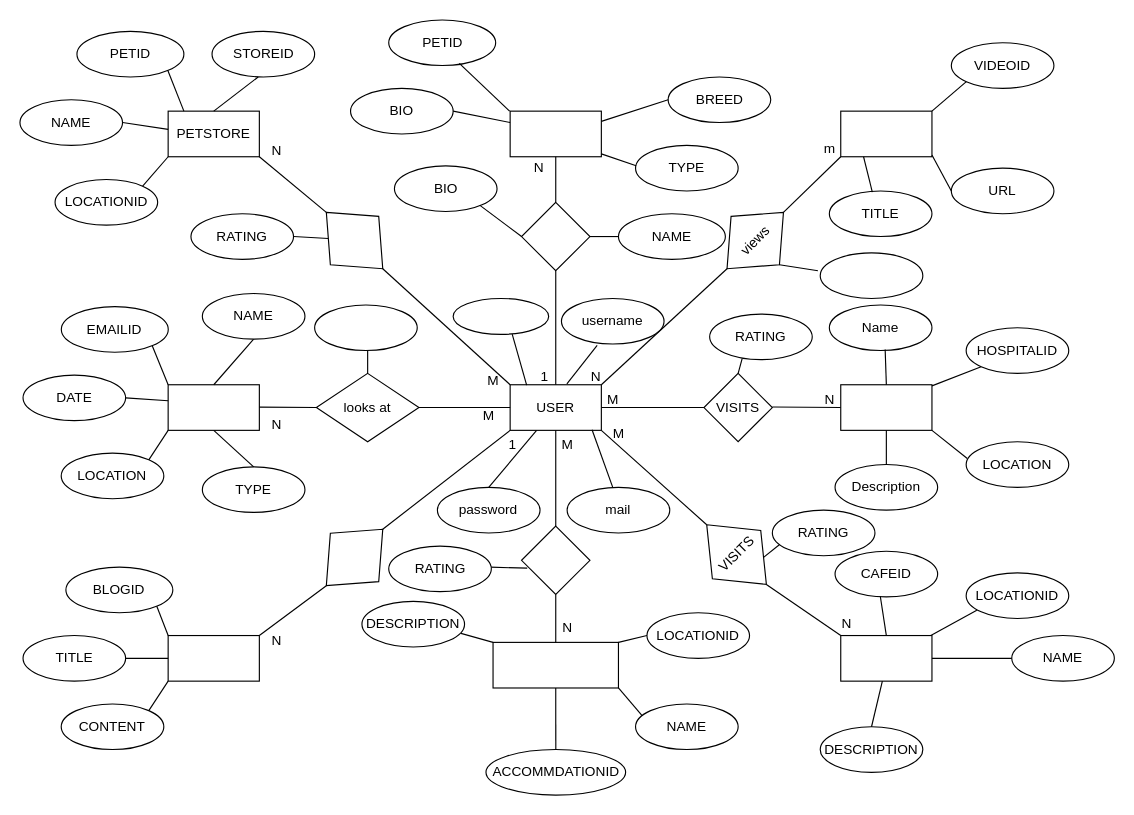
The diagram is 1134 pixels wide and 815 high, and some of its shapes have lost their labels. The centre of each missing label's shape, as x and y in pixels:
"ACCOMMODATION" belongs at point 555,664.
"BLOGS" belongs at point 213,657.
"BUYS" belongs at point 354,240.
"CAFES" belongs at point 886,657.
"EVENTS" belongs at point 213,407.
"HOSPITAL" belongs at point 886,407.
"OWNS" belongs at point 555,236.
"PET" belongs at point 555,133.
"register" belongs at point 365,327.
"STAY" belongs at point 555,560.
"U_id" belongs at point 500,315.
"VIDEOS" belongs at point 886,133.
"votes" belongs at point 871,275.
"WRITES" belongs at point 354,557.
